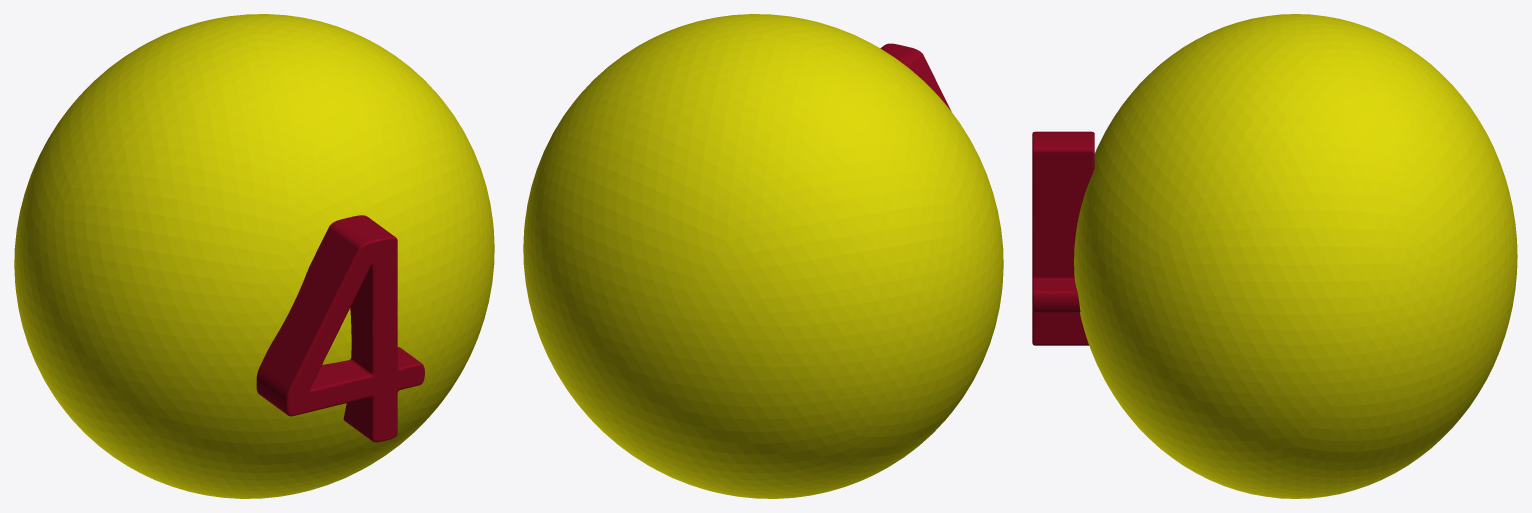
3 views of the same model, side by side, from view 1: azimuth 30°, elevation 25°; view 2: azimuth 150°, elevation 25°; view 3: azimuth 270°, elevation 25° (orthographic).
Size of the model in its own units: 3.9 by 3.9 by 3.9.
1 material, 1 textured.
